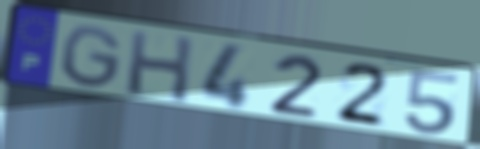2: (330, 61, 395, 130), (266, 53, 324, 121)
4: (199, 40, 253, 113)
5: (401, 69, 462, 137)
G: (60, 23, 126, 92)
H: (124, 28, 196, 106)
